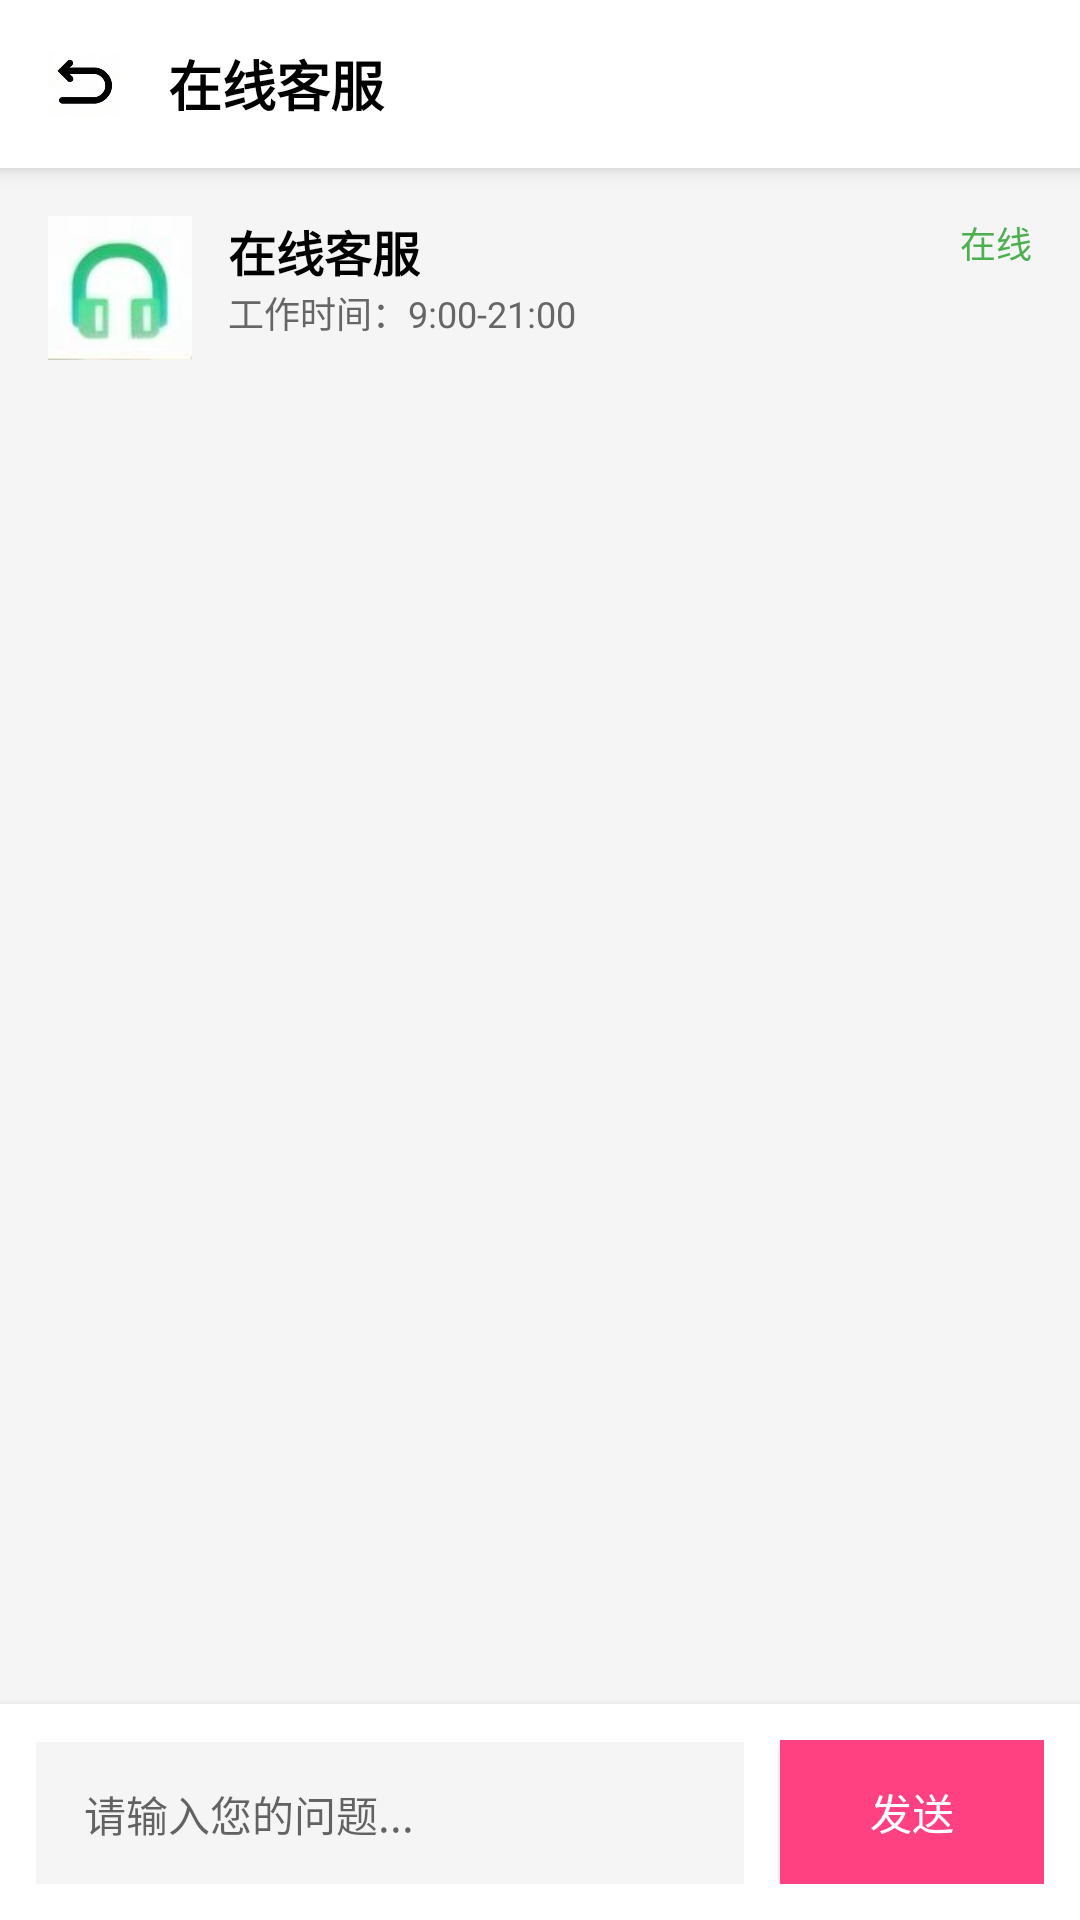

Screen size 1080 x 1920. Icon name, then its center in pixels as (x,y):
back: (84,82)
online service: (120,288)
